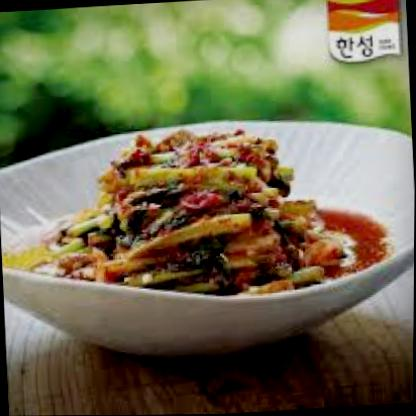young radish Kimchi: (29, 118, 355, 326)
